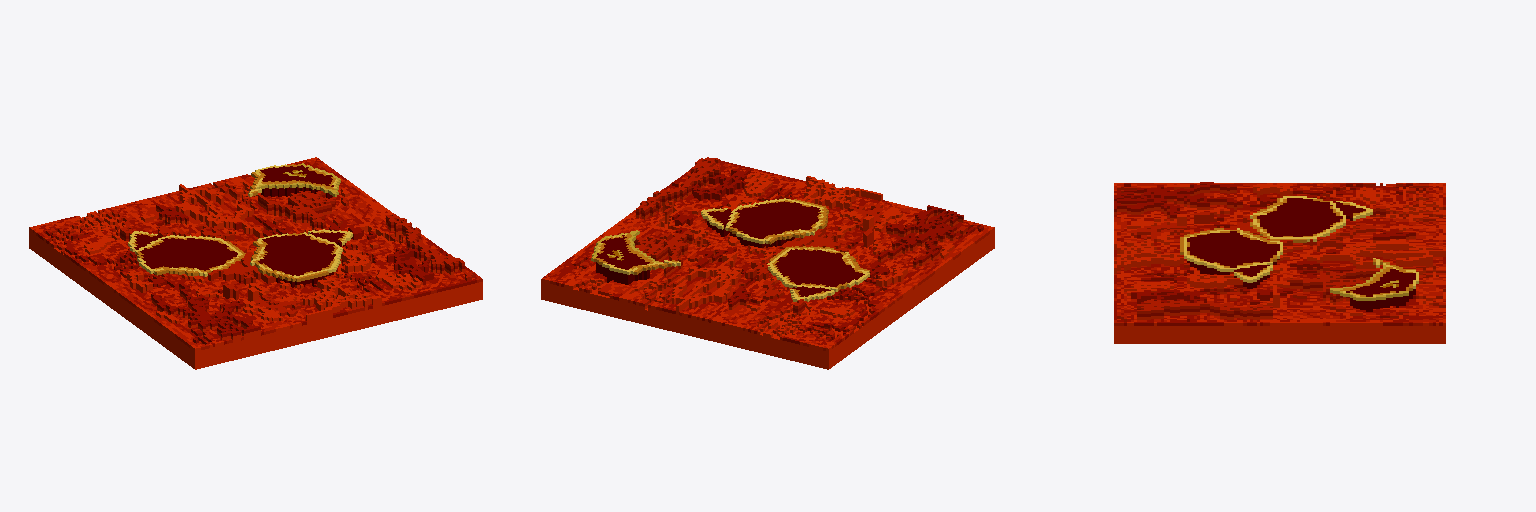
3 renders of one model, left to right at view 1: azimuth 30°, elevation 25°; view 2: azimuth 150°, elevation 25°; view 3: azimuth 270°, elevation 25°, orthographic.
Size of the model in its own units: 100 by 12 by 100.
Materials: 1 (1 with a texture image).